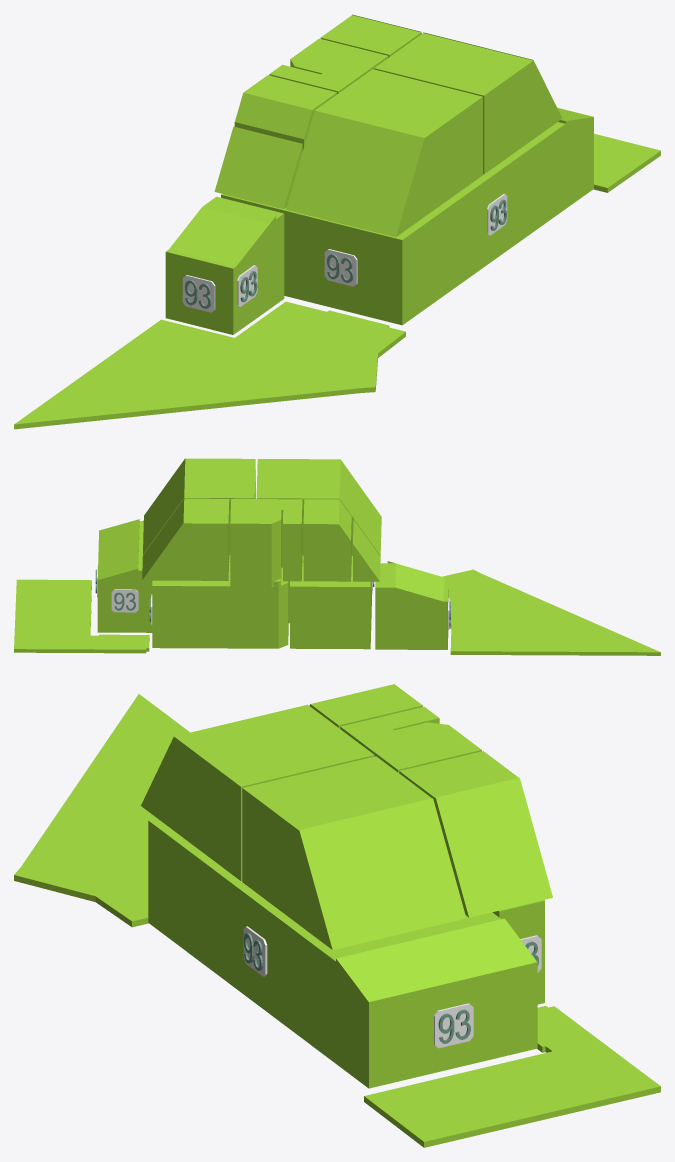
3 renders of one model, top to bottom at view 1: azimuth 30°, elevation 25°; view 2: azimuth 150°, elevation 25°; view 3: azimuth 270°, elevation 25°, orthographic. The views are drawn at different scales.
Parts seen in each view (by area): view 1: g_13, g_7, g_0, g_1, g_5, g_8, g_12, g_6, g_10, g_14, g_9, g_11 (+2 smaller); view 2: g_13, g_14, g_9, g_5, g_0, g_7, g_4, g_1, g_8, g_2, g_6, g_11 (+3 smaller); view 3: g_1, g_8, g_13, g_14, g_7, g_9, g_0, g_10, g_6, g_4, g_11, g_23.
Boxes of the visible parts, left/top/right/bottom form: g_13: left=14, top=301, right=405, bottom=429; g_7: left=286, top=69, right=482, bottom=237; g_0: left=221, top=194, right=459, bottom=325; g_1: left=452, top=108, right=593, bottom=284; g_5: left=165, top=196, right=284, bottom=334; g_8: left=374, top=32, right=562, bottom=174; g_12: left=214, top=126, right=302, bottom=208; g_6: left=234, top=75, right=336, bottom=150; g_10: left=269, top=45, right=388, bottom=94; g_14: left=593, top=133, right=660, bottom=192; g_9: left=320, top=14, right=421, bottom=57; g_11: left=290, top=38, right=346, bottom=74; g_13: left=442, top=569, right=660, bottom=655; g_14: left=14, top=579, right=149, bottom=653; g_9: left=142, top=498, right=229, bottom=580; g_5: left=375, top=561, right=448, bottom=649; g_0: left=289, top=555, right=372, bottom=649; g_7: left=256, top=459, right=381, bottom=556; g_4: left=152, top=561, right=230, bottom=648; g_1: left=97, top=519, right=289, bottom=632; g_8: left=143, top=458, right=255, bottom=555; g_2: left=228, top=567, right=288, bottom=648; g_6: left=303, top=499, right=351, bottom=581; g_11: left=230, top=510, right=281, bottom=581; g_1: left=214, top=868, right=537, bottom=1088; g_8: left=242, top=756, right=466, bottom=949; g_13: left=14, top=694, right=189, bottom=927; g_14: left=364, top=1006, right=660, bottom=1147; g_7: left=141, top=704, right=374, bottom=880; g_9: left=399, top=751, right=552, bottom=917; g_0: left=148, top=818, right=222, bottom=971; g_10: left=340, top=706, right=448, bottom=772; g_6: left=309, top=684, right=422, bottom=728; g_4: left=492, top=900, right=544, bottom=1004; g_11: left=395, top=722, right=481, bottom=759; g_23: left=434, top=1003, right=473, bottom=1048.
Size of the model in its own units: 24.2 by 5.36 by 14.76.
